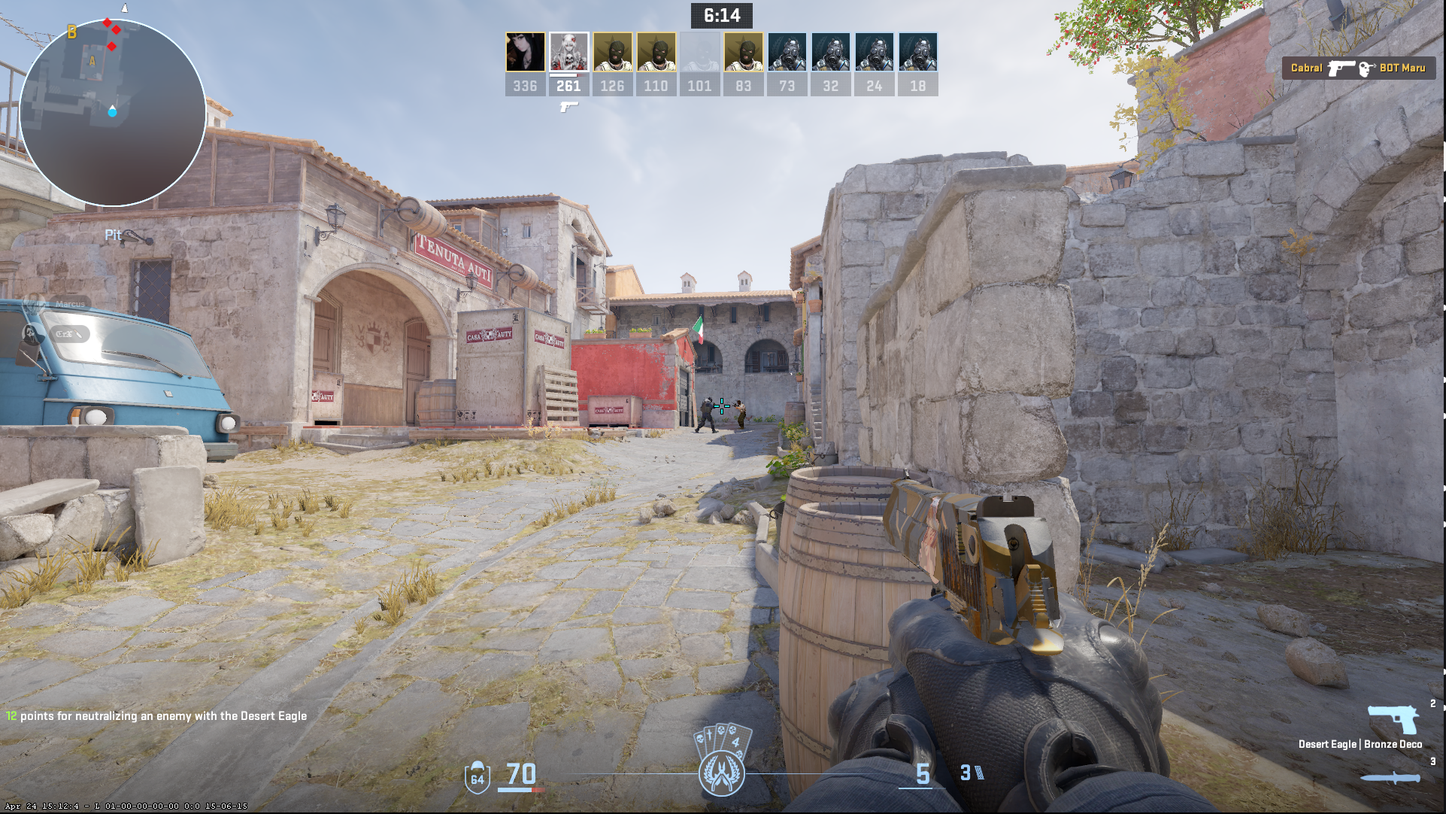CT: (696, 397, 715, 433)
T: (735, 400, 746, 429)
